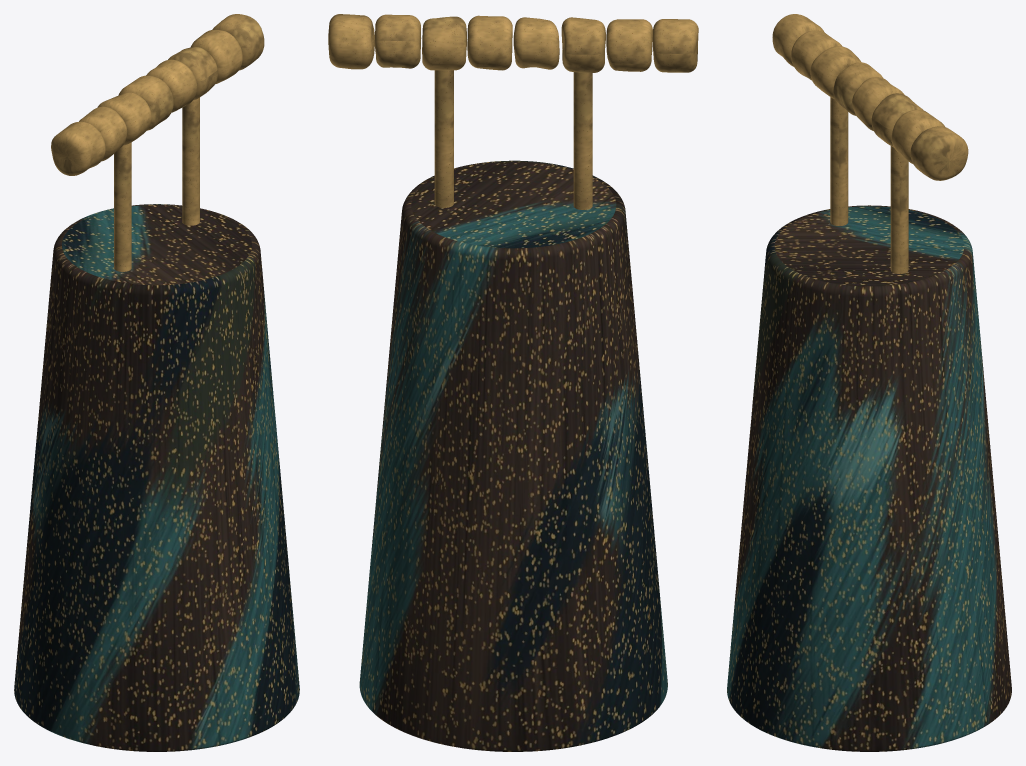
File: knight-black-hd.glb
The picture shows the model from 3 angles, left to right: view 1: azimuth 30°, elevation 25°; view 2: azimuth 150°, elevation 25°; view 3: azimuth 270°, elevation 25°; orthographic projection. The views are drawn at different scales.
Visible parts, largest first — view 1: Telo, Koralek_1, Sloupek_1, Sloupek_2, Koralek_7, Koralek_8, Koralek_4, Koralek_5, Koralek_3, Koralek_2, Koralek_6; view 2: Telo, Sloupek_2, Sloupek_1, Koralek_8, Koralek_7, Koralek_1, Koralek_5, Koralek_2, Koralek_6, Koralek_3, Koralek_4; view 3: Telo, Koralek_8, Sloupek_1, Sloupek_2, Koralek_3, Koralek_7, Koralek_5, Koralek_6, Koralek_2, Koralek_1, Koralek_4.
Part boxes in pixels (box(x1,y1,x2,y2)): Telo: box(14, 204, 299, 751); Koralek_1: box(51, 121, 105, 175); Sloupek_1: box(114, 142, 131, 271); Sloupek_2: box(182, 97, 199, 225); Koralek_7: box(190, 30, 242, 83); Koralek_8: box(212, 14, 264, 70); Koralek_4: box(118, 75, 173, 130); Koralek_5: box(146, 59, 197, 112); Koralek_3: box(97, 92, 151, 145); Koralek_2: box(79, 106, 127, 161); Koralek_6: box(168, 47, 217, 100); Telo: box(359, 160, 667, 751); Sloupek_2: box(434, 70, 453, 207); Sloupek_1: box(573, 72, 592, 209); Koralek_8: box(328, 14, 374, 69); Koralek_7: box(374, 14, 421, 68); Koralek_1: box(653, 19, 698, 72); Koralek_5: box(467, 15, 512, 70); Koralek_2: box(606, 19, 652, 71); Koralek_6: box(422, 16, 467, 70); Koralek_3: box(561, 17, 605, 72); Koralek_4: box(513, 17, 559, 69); Telo: box(727, 205, 1011, 751); Koralek_8: box(910, 126, 968, 180); Sloupek_1: box(830, 97, 848, 225); Sloupek_2: box(890, 146, 908, 273); Koralek_3: box(810, 46, 861, 99); Koralek_7: box(891, 109, 944, 163); Koralek_5: box(852, 77, 904, 130); Koralek_6: box(871, 93, 923, 147); Koralek_2: box(791, 30, 842, 80); Koralek_1: box(772, 14, 824, 66); Koralek_4: box(833, 62, 882, 115).
Size of the model in its own units: 0.7088 by 1.54 by 0.6431.
Materials: 3 (3 with a texture image).
